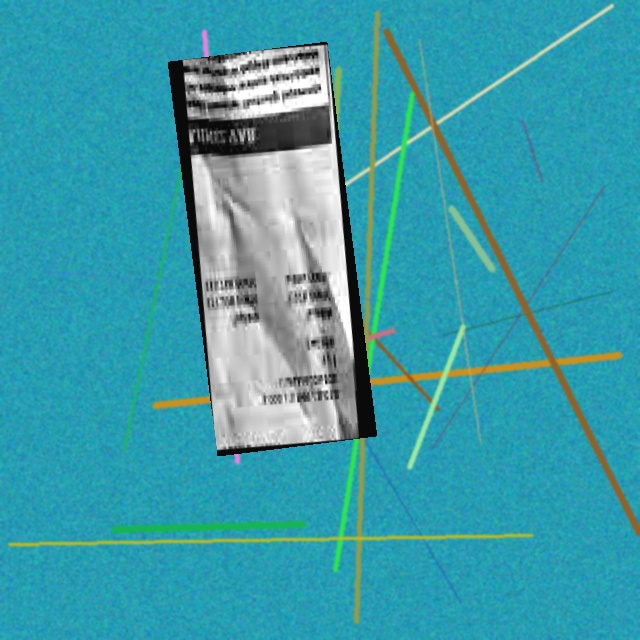electricity-bill: (168, 41, 376, 455)
